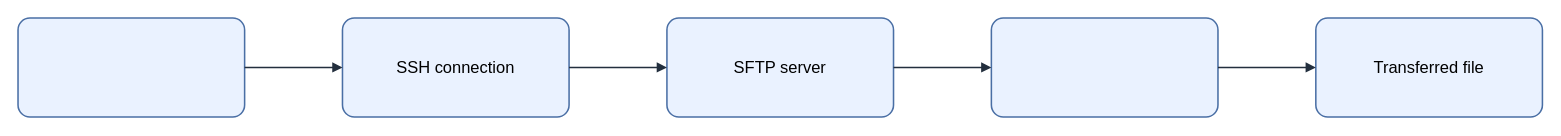
Some shapes in this 1561 by 136 pixel diagram are drawn without their labels. The shapes that lost their labels are listed below. From the top down, each one's centre as x and y in pixels, then its label:
At [131,67]: "SFTP client".
At [1104,67]: "Filesystem".
